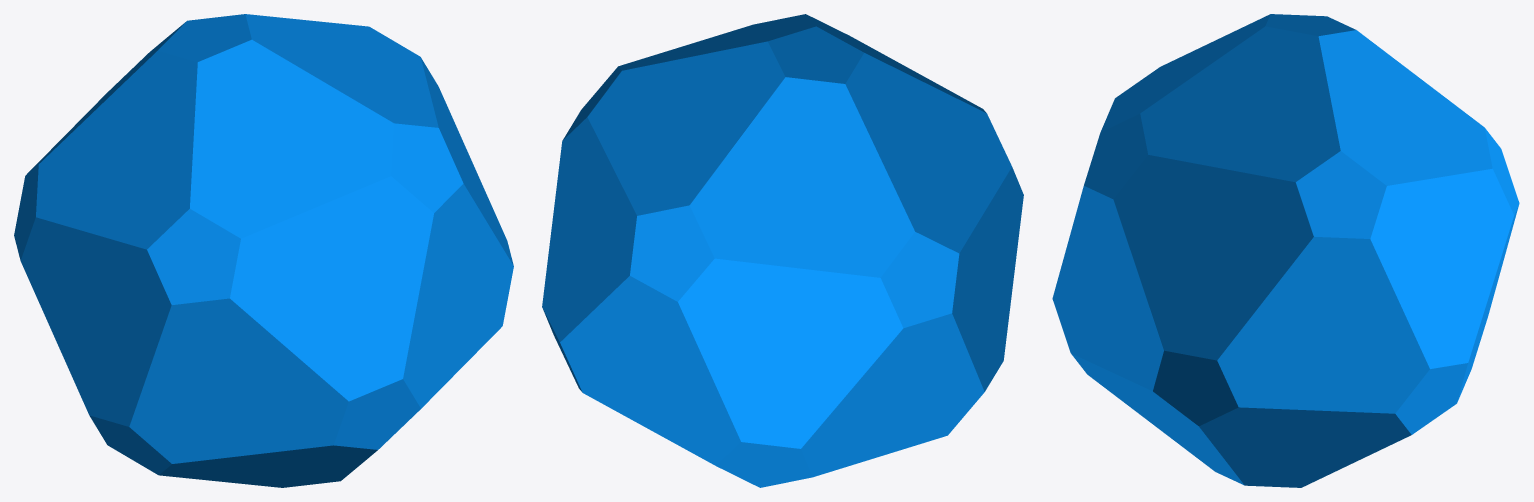
The model's file is GC_Sphere_Passive.obj.
The picture shows the model from 3 angles, left to right: view 1: azimuth 30°, elevation 25°; view 2: azimuth 150°, elevation 25°; view 3: azimuth 270°, elevation 25°; orthographic projection. The views are drawn at different scales.
Parts seen in each view (by area): view 1: m_GC_Gyro_AllAxis_Active_222_Sphere.003; view 2: m_GC_Gyro_AllAxis_Active_222_Sphere.003; view 3: m_GC_Gyro_AllAxis_Active_222_Sphere.003.
Part boxes in pixels (x1=…): m_GC_Gyro_AllAxis_Active_222_Sphere.003: x1=14, y1=14, x2=513, y2=487; m_GC_Gyro_AllAxis_Active_222_Sphere.003: x1=542, y1=14, x2=1023, y2=487; m_GC_Gyro_AllAxis_Active_222_Sphere.003: x1=1052, y1=14, x2=1519, y2=487.
Size of the model in its own units: 1.23 by 1.28 by 1.27.
